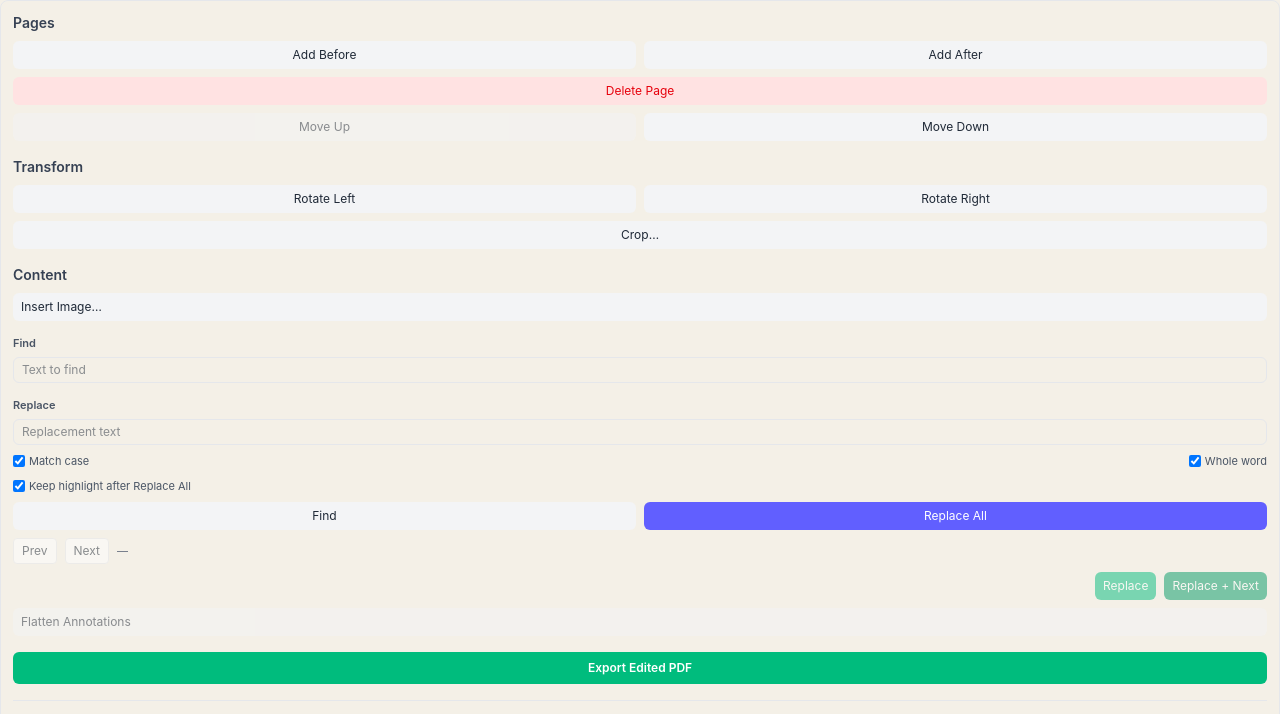
Test: DocumentActionsPanel: Vigorous Find & Replace › Finds matches across multiple pages and Navigates
// Search for "World" (Page 1 has "Hello World", Page 2 has "Another World")
Type "World" into the field labelled "Find" at (640, 370), box 13,357 -> 1267,383
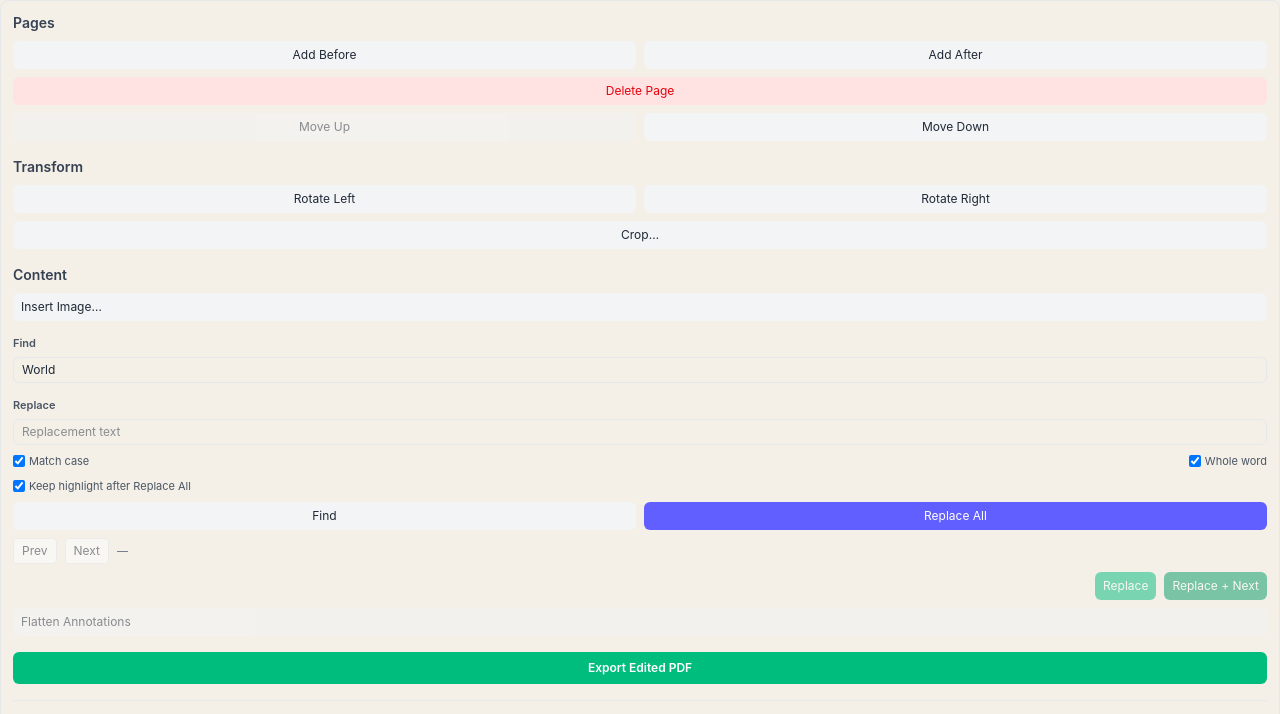
Click the button with aria-label "execute search" at (324, 516), box 13,502 -> 636,530
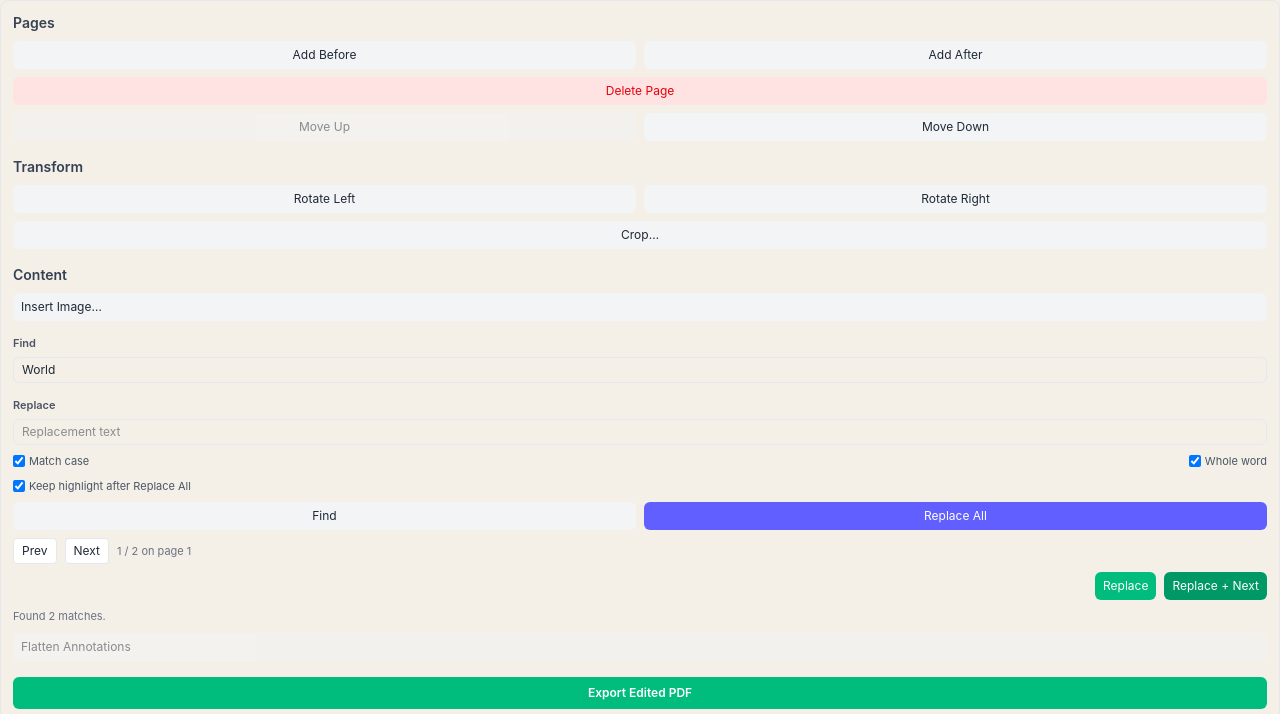
expect the text "1 / 2 on page 1" is shown: met, box 117,544 -> 191,558
// Test Next Button
Click the button "Next" at (87, 551), box 64,538 -> 109,564
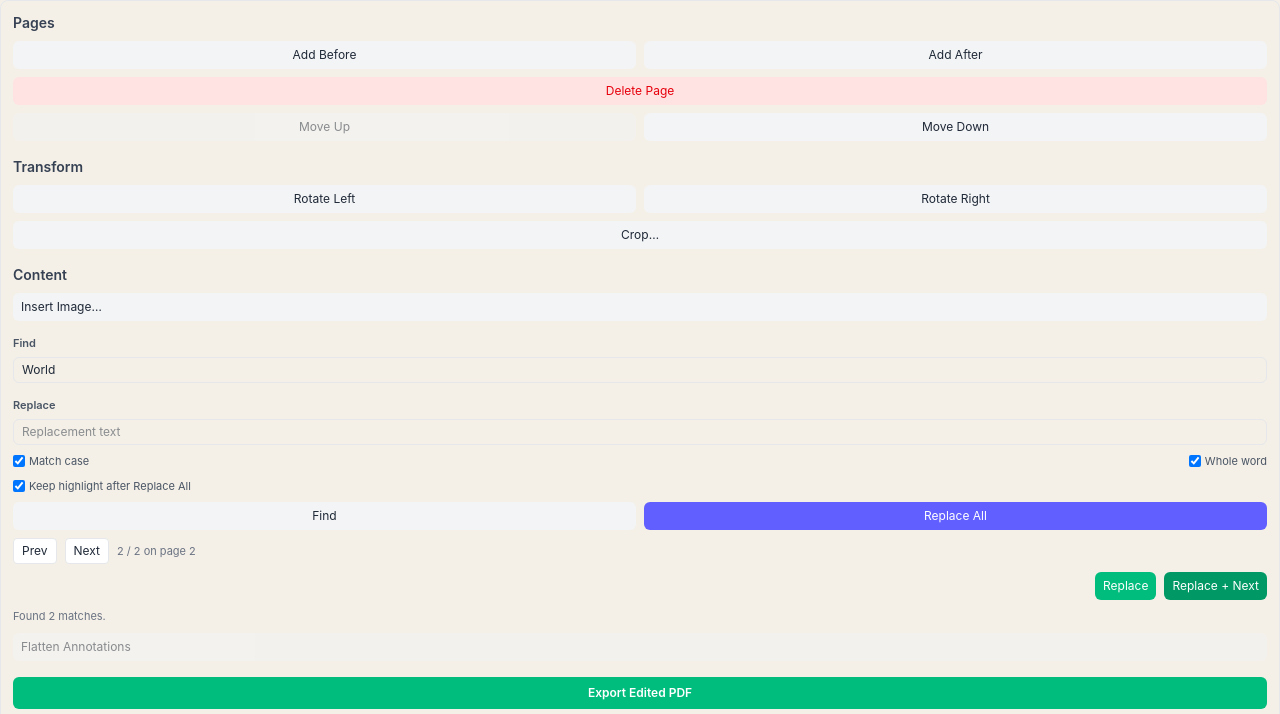
expect the text "2 / 2 on page 2" is shown: met, box 117,544 -> 196,558
// Cycle back to 1
Click the button "Next" at (87, 551), box 64,538 -> 109,564
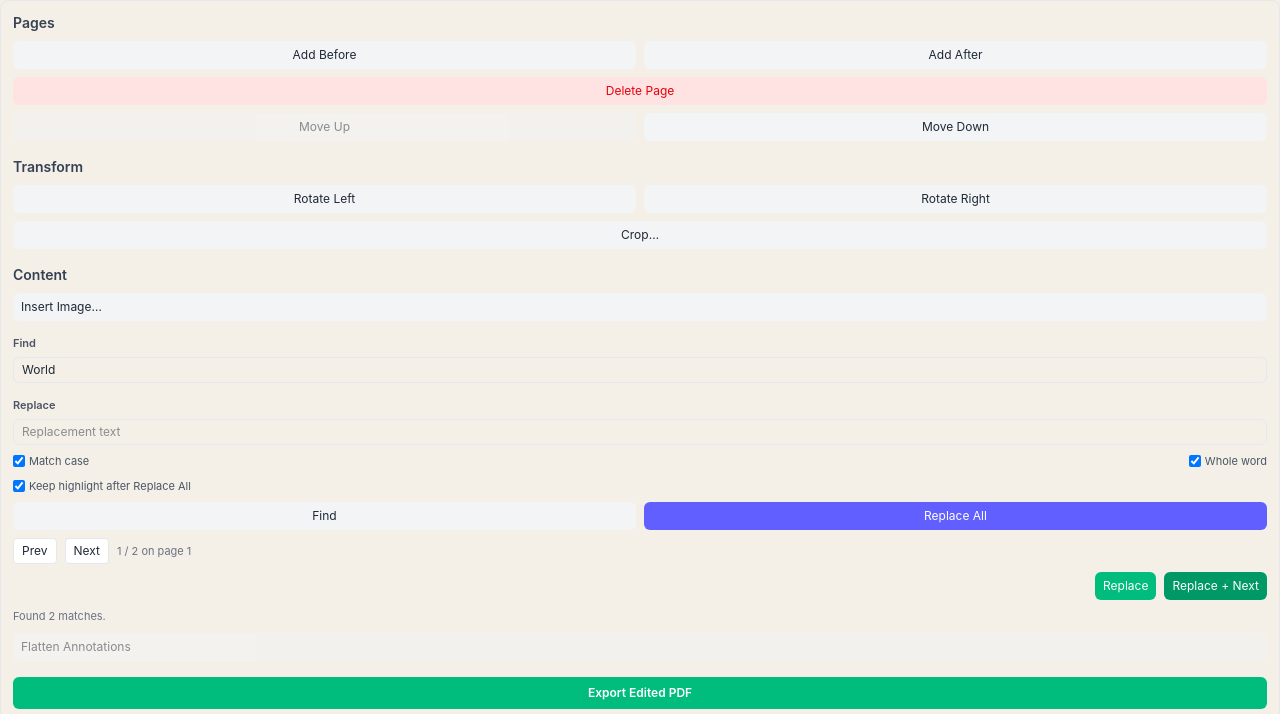
expect the text "1 / 2 on page 1" is shown: met, box 117,544 -> 191,558
